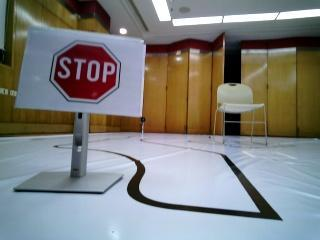stop: (44, 33, 131, 109)
